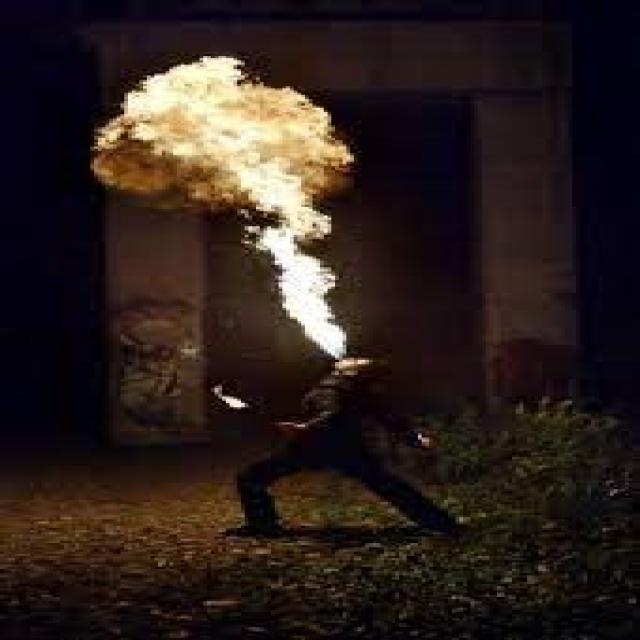fire: (90, 56, 355, 226), (271, 252, 347, 320), (296, 312, 347, 360), (240, 225, 303, 259), (278, 208, 332, 240)
